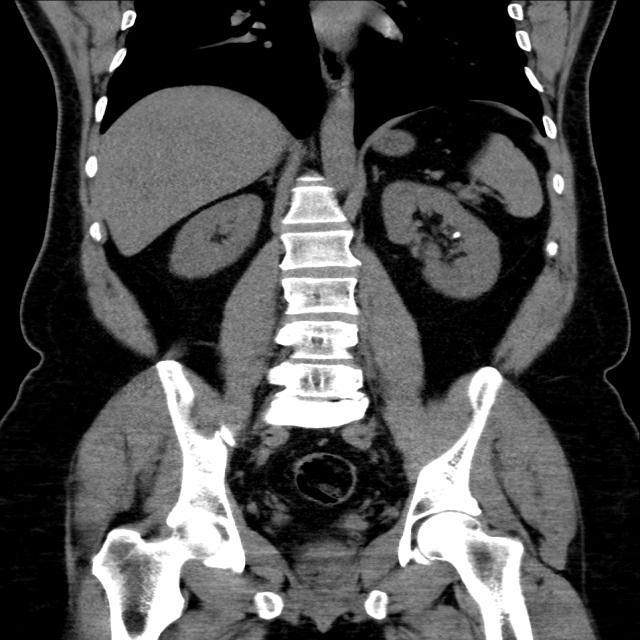kidneystone: (452, 231, 461, 239)
